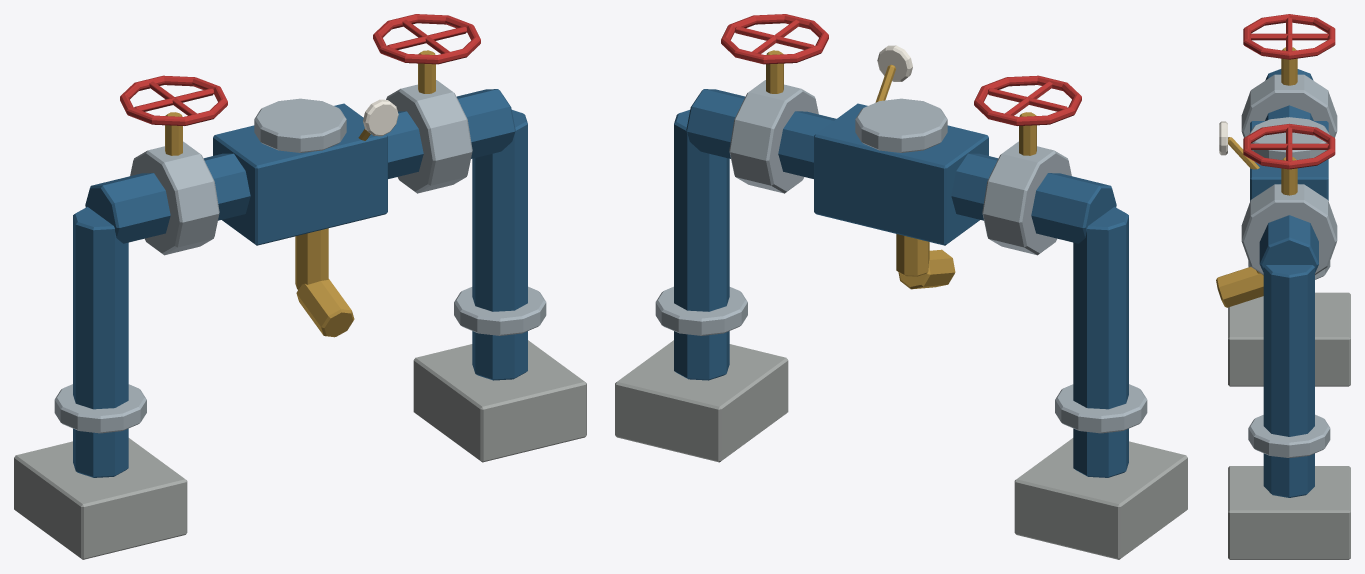
Rendered from b05_backflow_preventer_assembly.glb.
3 views of the same model, side by side, from view 1: azimuth 30°, elevation 25°; view 2: azimuth 150°, elevation 25°; view 3: azimuth 270°, elevation 25° (orthographic). The views are drawn at different scales.
Visible parts, largest first — view 1: b05_backflow_preventer_assembly; view 2: b05_backflow_preventer_assembly; view 3: b05_backflow_preventer_assembly.
Boxes of the visible parts, x1=… form: b05_backflow_preventer_assembly: x1=14, y1=14, x2=586, y2=559; b05_backflow_preventer_assembly: x1=615, y1=14, x2=1187, y2=559; b05_backflow_preventer_assembly: x1=1216, y1=14, x2=1350, y2=559.
Size of the model in its own units: 1.52 by 1.17 by 0.3946.
